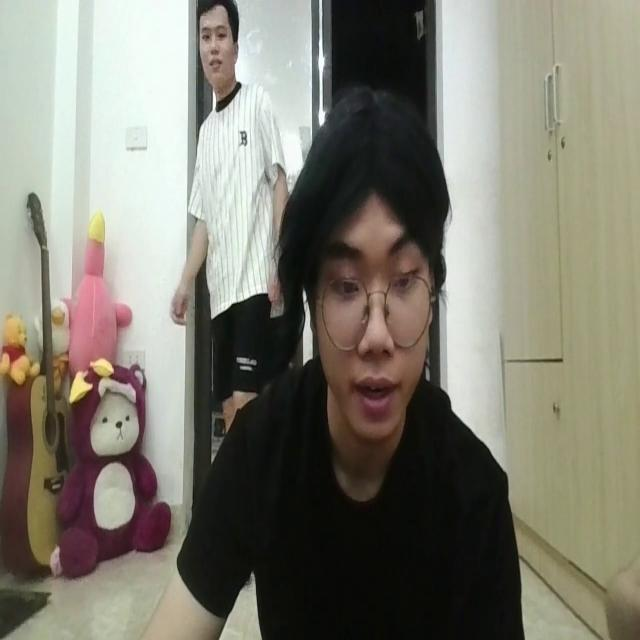extra_person: (164, 2, 291, 392)
student: (157, 88, 521, 640)
